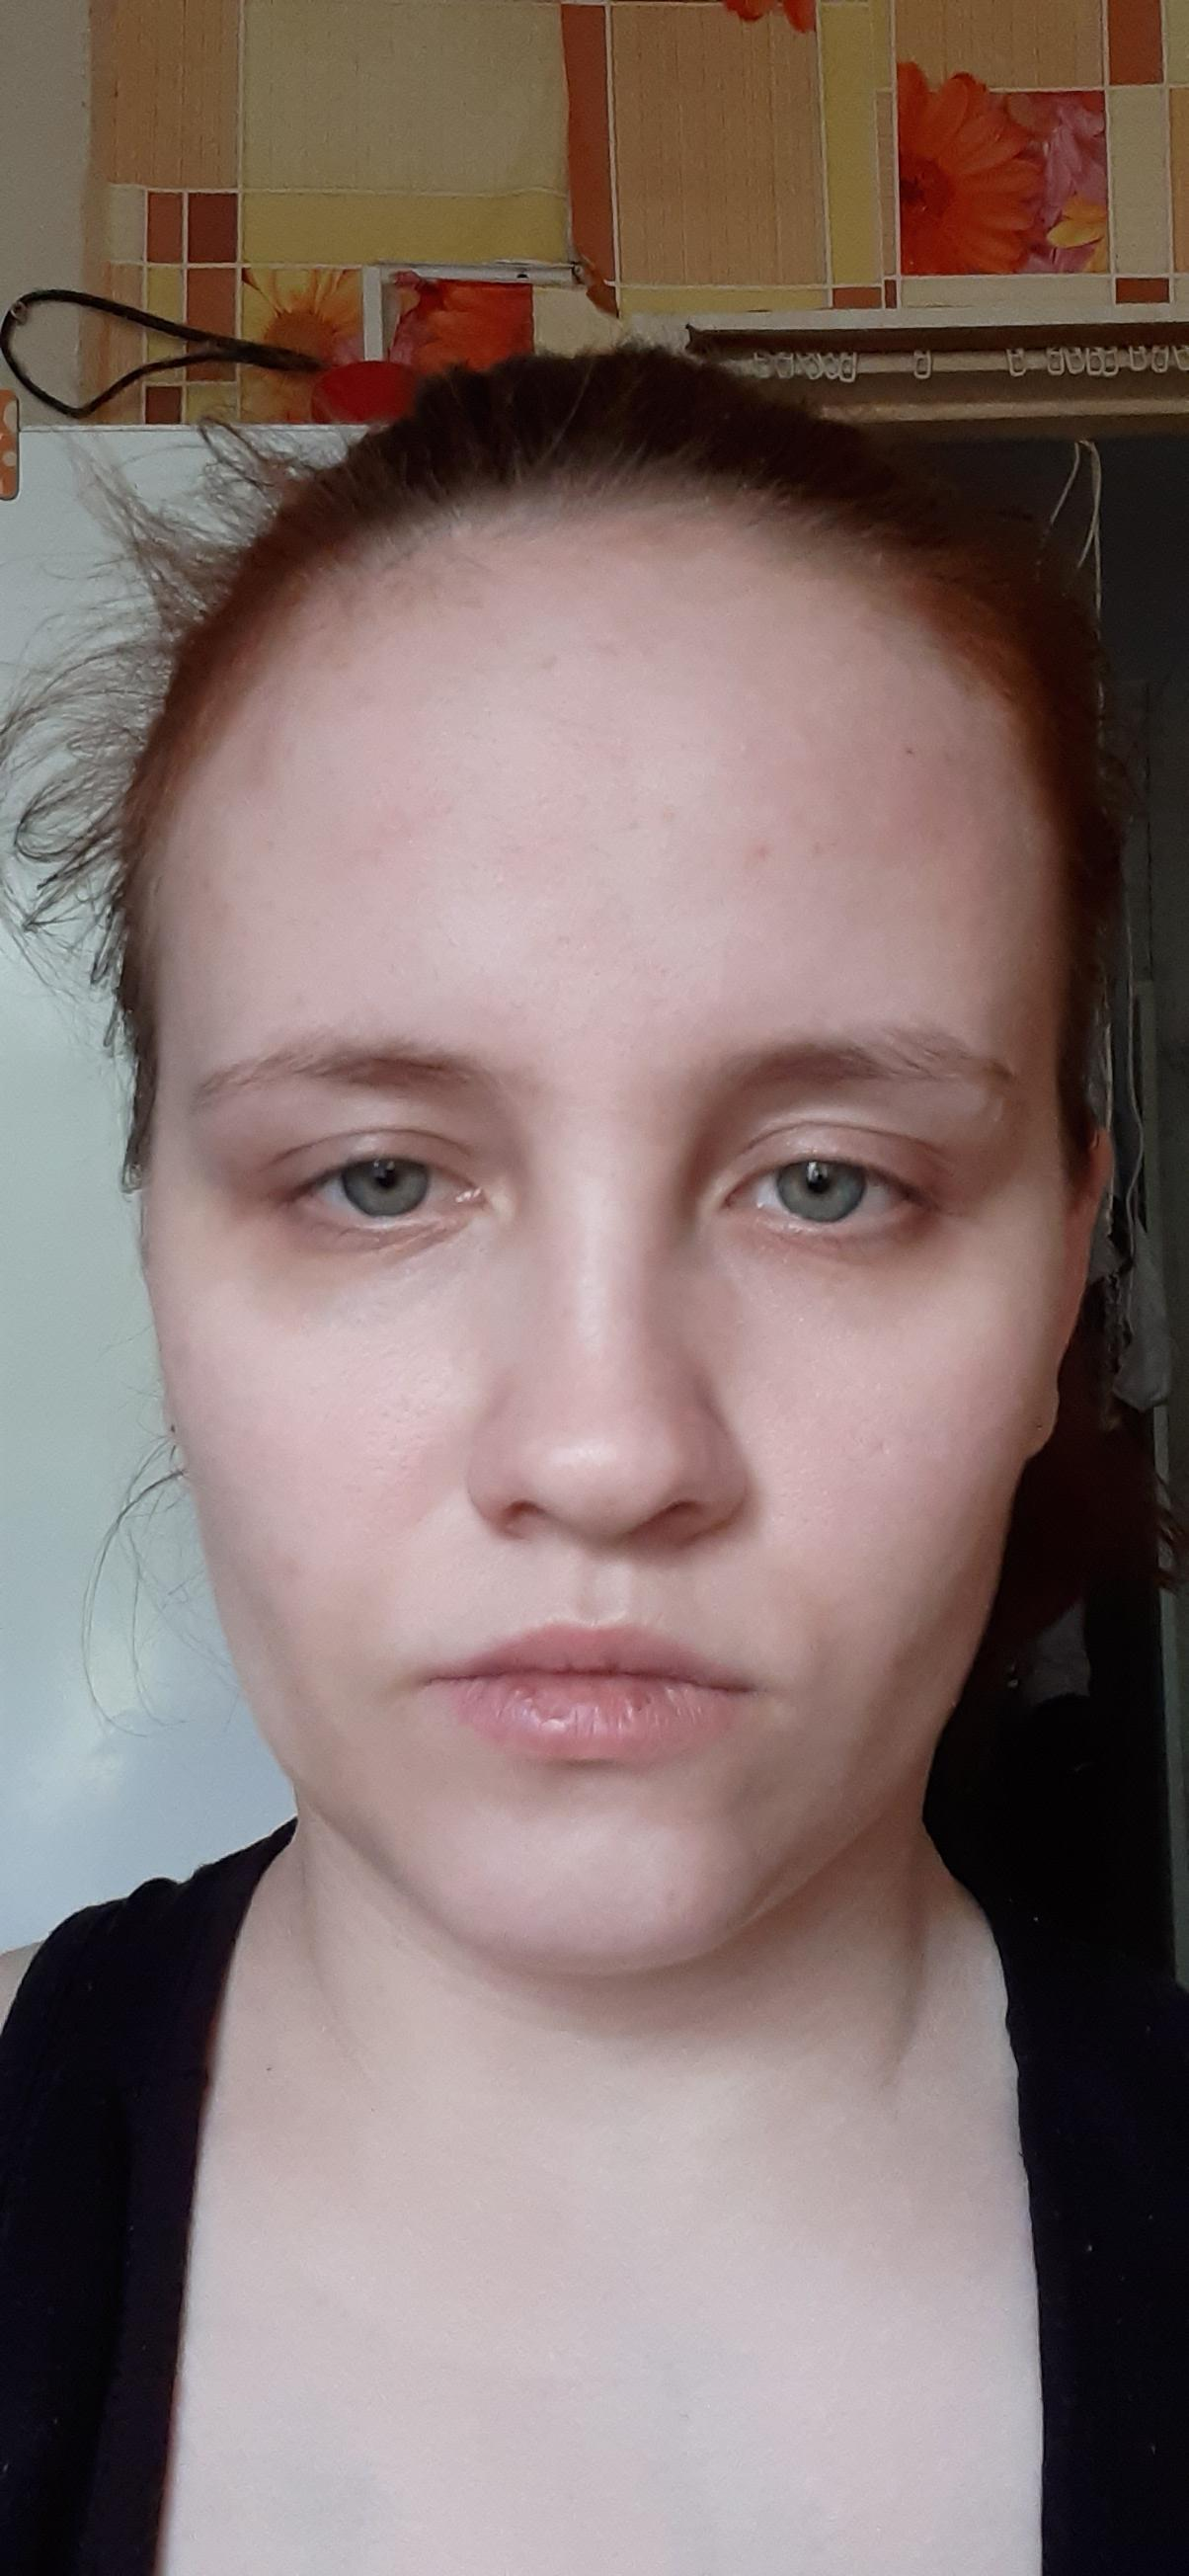Acne: (241, 723, 281, 784), (276, 1548, 310, 1582), (654, 802, 685, 830), (746, 843, 774, 869), (806, 833, 829, 859)
Englarged-Pores: (754, 1378, 885, 1520), (358, 1365, 452, 1503)
